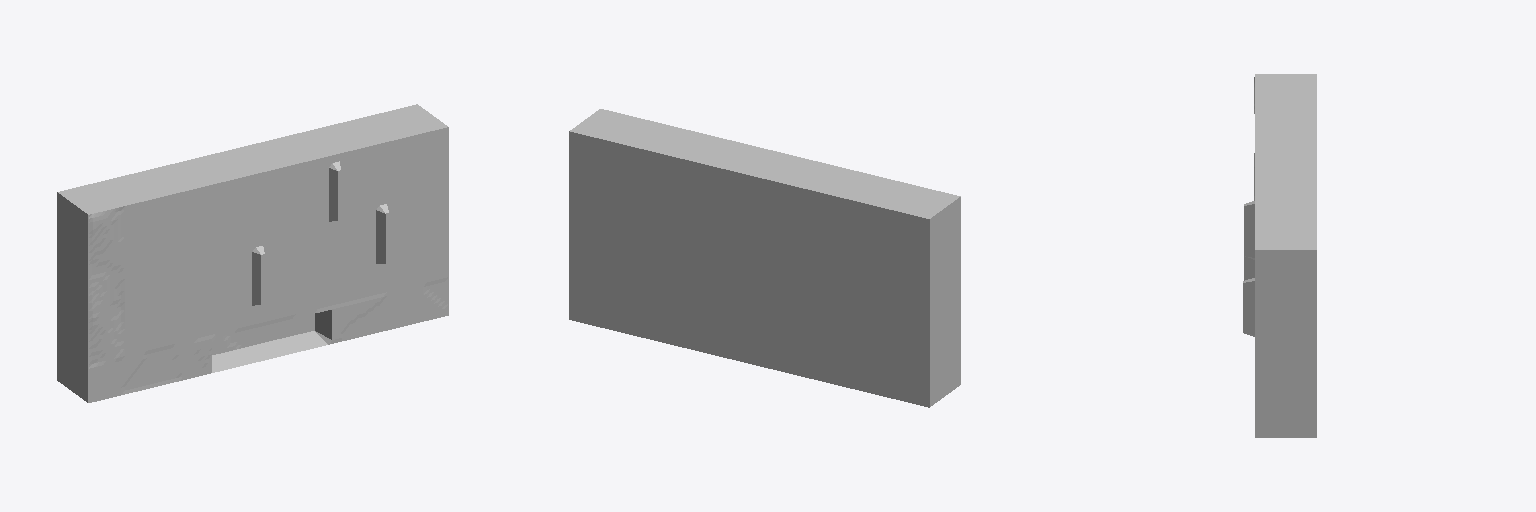
File: rectangular_prism_bumps_5_2.obj
3 views of the same model, side by side, from view 1: azimuth 30°, elevation 25°; view 2: azimuth 150°, elevation 25°; view 3: azimuth 270°, elevation 25° (orthographic).
Bounding box in the file's own units: 10 × 5 × 1.78.